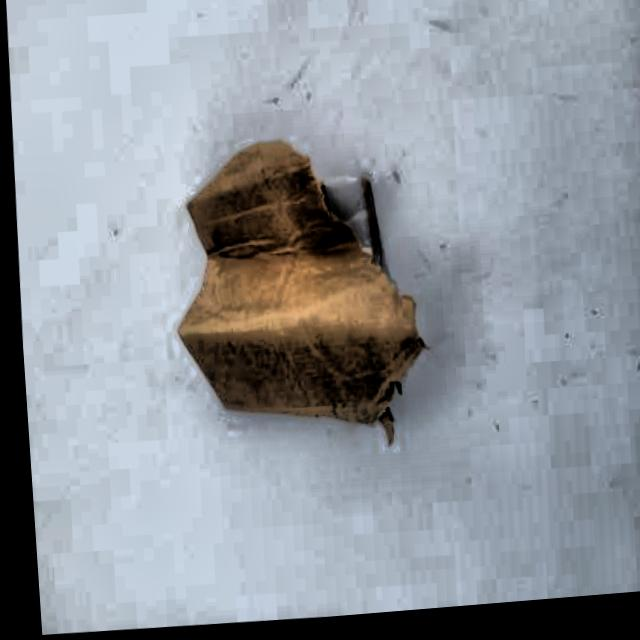Cardbox: (142, 116, 452, 483)
